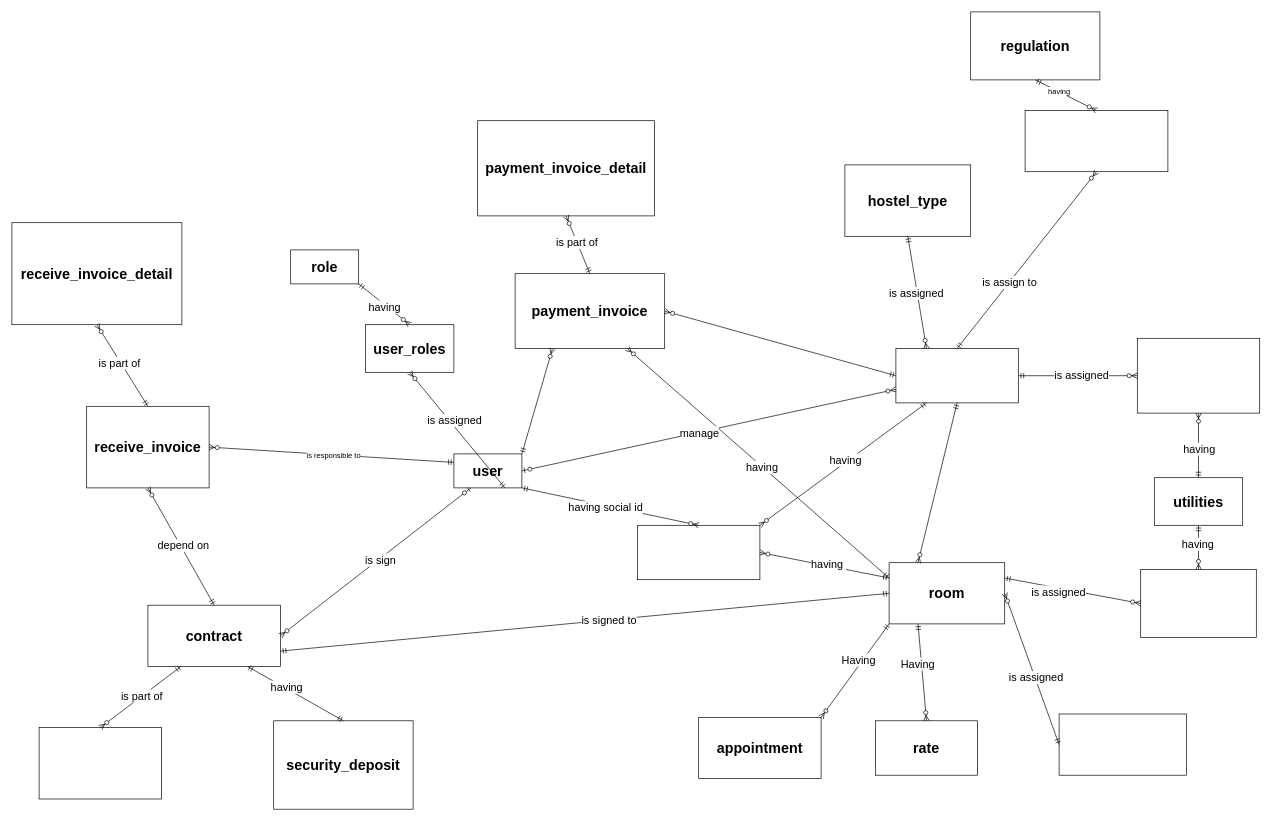
The diagram is 1272 pixels wide and 821 high, and some of its shapes have lost their labels. The shapes that lost their labels are listed below. From the top down, each one's box as (x1, y1, x2, y2) in pixels, then its label:
(1024, 110, 1168, 172): regulation_hostels
(895, 348, 1018, 403): hostel
(1137, 338, 1260, 413): hostel_utilities
(637, 525, 760, 580): picture
(1140, 569, 1256, 638): room_utilities
(38, 727, 162, 799): contract_extend
(1058, 713, 1187, 775): room_type
